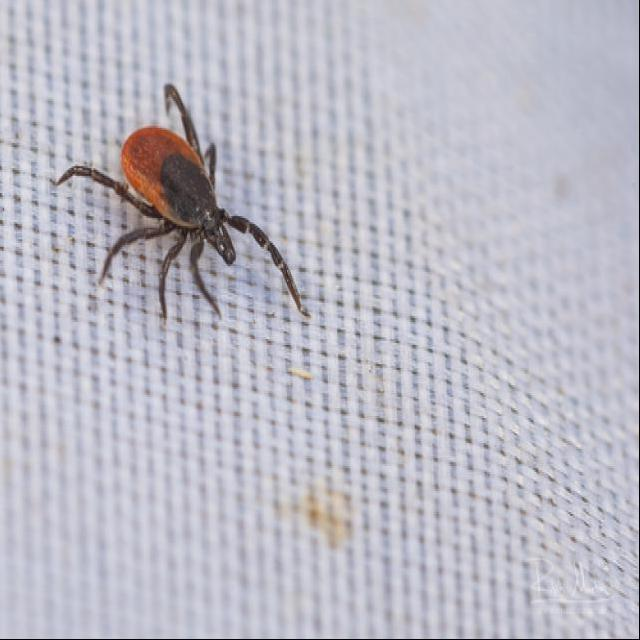Ixodes Ricinus-F: (56, 86, 307, 319)
